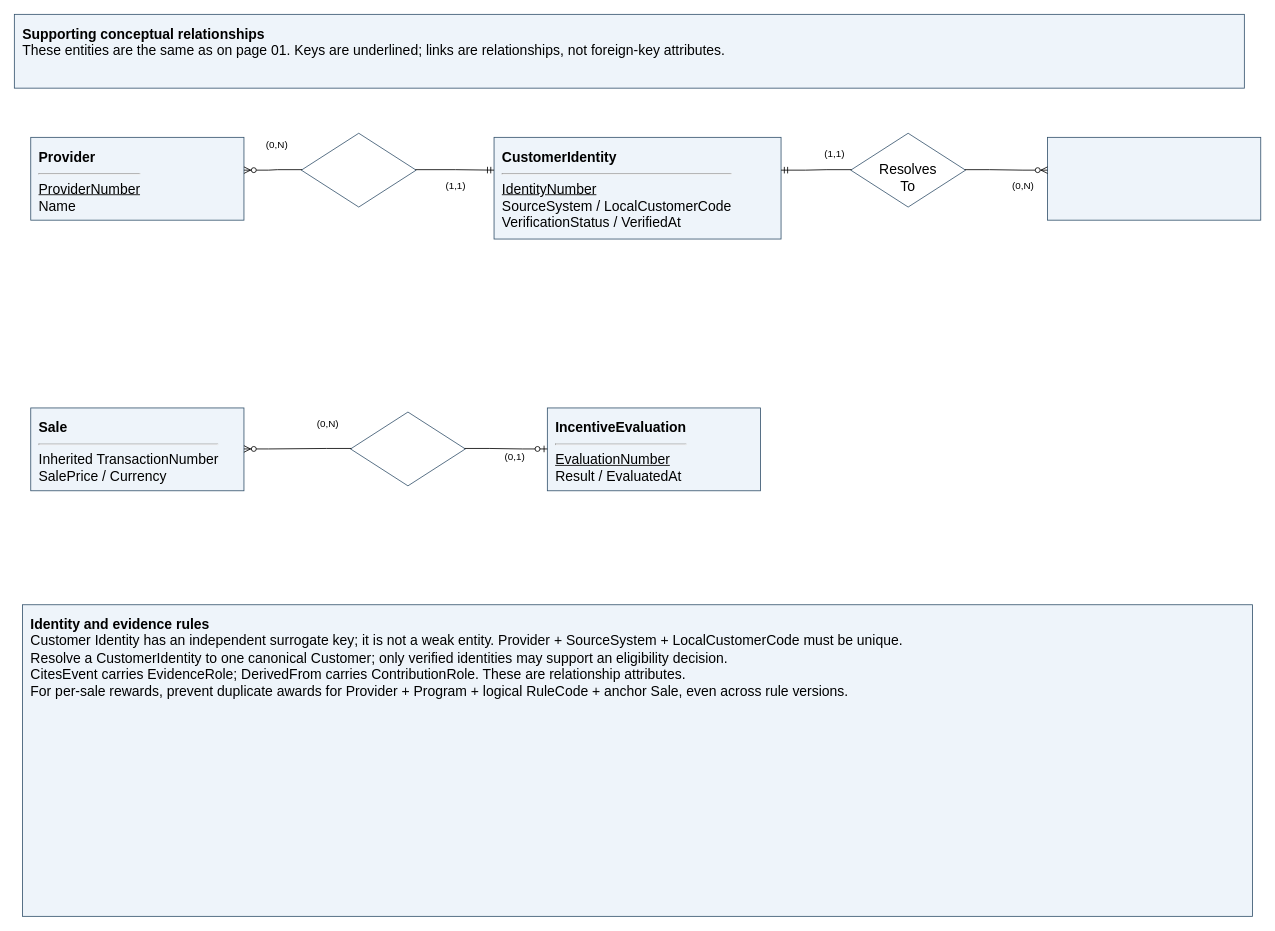
This 1275x931 diagram has some shape labels left out. Here are the shapes that lost their labels. From the top down, the box of each, then its label:
(301, 132, 416, 207): Scopes
(1047, 137, 1261, 220): Customer CustomerNumber DisplayName
(350, 411, 465, 486): Anchors
